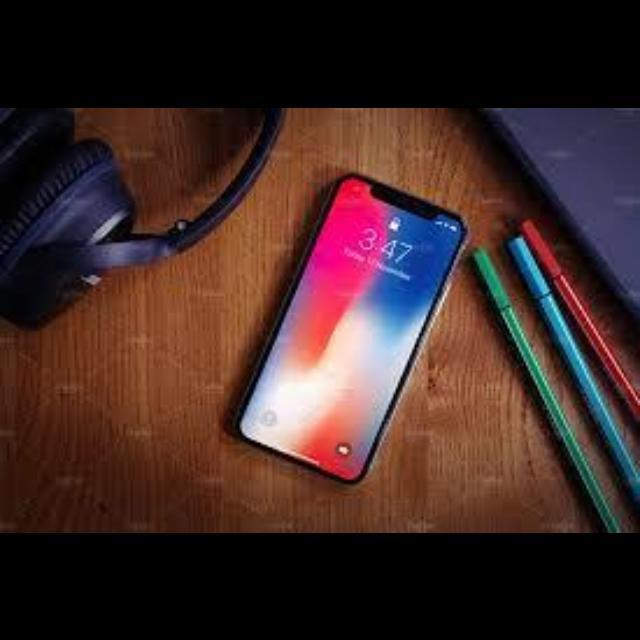phone: (227, 165, 481, 485)
